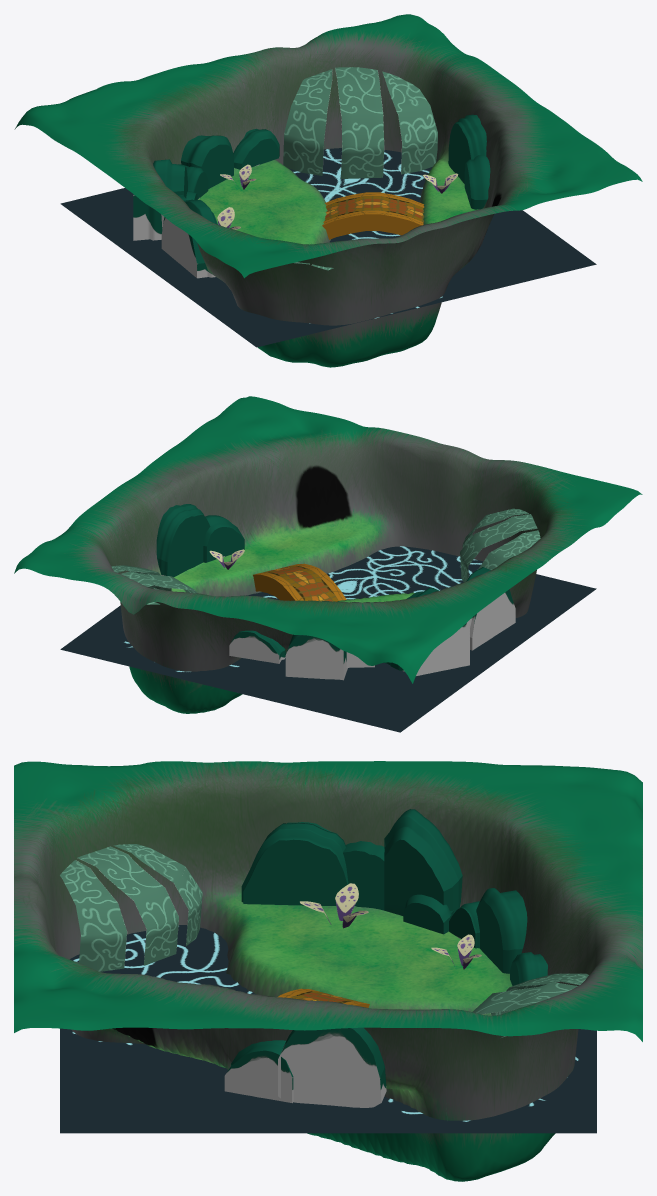
File: Textured environment .fbx
3 renders of one model, top to bottom at view 1: azimuth 30°, elevation 25°; view 2: azimuth 150°, elevation 25°; view 3: azimuth 270°, elevation 25°, orthographic. The views are drawn at different scales.
Parts seen in each view (by area): view 1: Environment_paint_new:Surface_Surface, Environment_paint_new:Water_Water, pPlane1, Environment_paint_new:Bridge_Bridge, Environment_paint_new:pCube1, Environment_paint_new:pCube5, Environment_paint_new:pCube3, Environment_paint_new:pCube8, Environment_paint_new:pCube7, Environment_paint_new:pCube9, Environment_paint_new:pCube6; view 2: Environment_paint_new:Surface_Surface, Environment_paint_new:Water_Water, Environment_paint_new:pCube8, pasted__pPlane1, Environment_paint_new:Bridge_Bridge, Environment_paint_new:pCube5, Environment_paint_new:pCube1, Environment_paint_new:pCube3, Environment_paint_new:pCube7, Environment_paint_new:pCube9, pPlane1; view 3: Environment_paint_new:Surface_Surface, Environment_paint_new:Water_Water, pasted__pPlane1, Environment_paint_new:pCube8, Environment_paint_new:pCube1, Environment_paint_new:pCube3, Environment_paint_new:pCube5, Environment_paint_new:pCube9, Environment_paint_new:pCube2, pPlane1, Environment_paint_new:pCube4, Environment_paint_new:pCube7 (+3 smaller).
Part boxes in pixels (x1,y1,x2,y2): Environment_paint_new:Surface_Surface: (14,14,642,367); Environment_paint_new:Water_Water: (60,148,596,347); pPlane1: (283,67,437,178); Environment_paint_new:Bridge_Bridge: (322,192,424,239); Environment_paint_new:pCube1: (161,199,217,278); Environment_paint_new:pCube5: (181,135,233,188); Environment_paint_new:pCube3: (133,159,187,240); Environment_paint_new:pCube8: (448,114,486,183); Environment_paint_new:pCube7: (233,128,279,169); Environment_paint_new:pCube9: (464,155,490,209); Environment_paint_new:pCube6: (178,164,208,199); Environment_paint_new:Surface_Surface: (14,396,642,713); Environment_paint_new:Water_Water: (60,546,596,732); Environment_paint_new:pCube8: (156,504,210,577); pasted__pPlane1: (460,508,540,582); Environment_paint_new:Bridge_Bridge: (253,563,346,601); Environment_paint_new:pCube5: (285,634,347,680); Environment_paint_new:pCube1: (466,567,515,650); Environment_paint_new:pCube3: (390,587,469,675); Environment_paint_new:pCube7: (229,630,286,663); Environment_paint_new:pCube9: (203,515,244,562); pPlane1: (111,565,197,604); Environment_paint_new:Surface_Surface: (14,761,642,1181); Environment_paint_new:Water_Water: (60,925,596,1133); pasted__pPlane1: (60,844,202,971); Environment_paint_new:pCube8: (278,1027,386,1107); Environment_paint_new:pCube1: (241,822,348,905); Environment_paint_new:pCube3: (384,809,462,915); Environment_paint_new:pCube5: (476,888,527,973); Environment_paint_new:pCube9: (224,1040,293,1103); Environment_paint_new:pCube2: (343,841,384,910); pPlane1: (446,973,588,1120); Environment_paint_new:pCube4: (403,894,453,934); Environment_paint_new:pCube7: (510,952,547,985).
Bounding box in the file's own units: 85.48 × 30 × 85.48.
